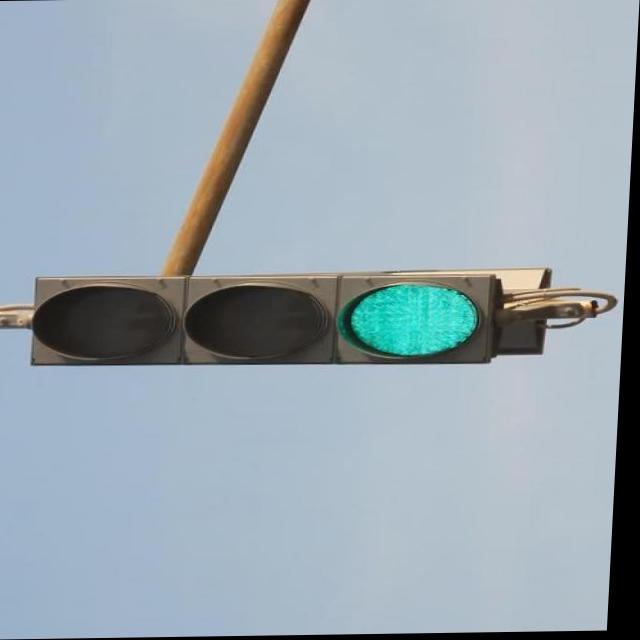green light: (32, 275, 506, 364)
